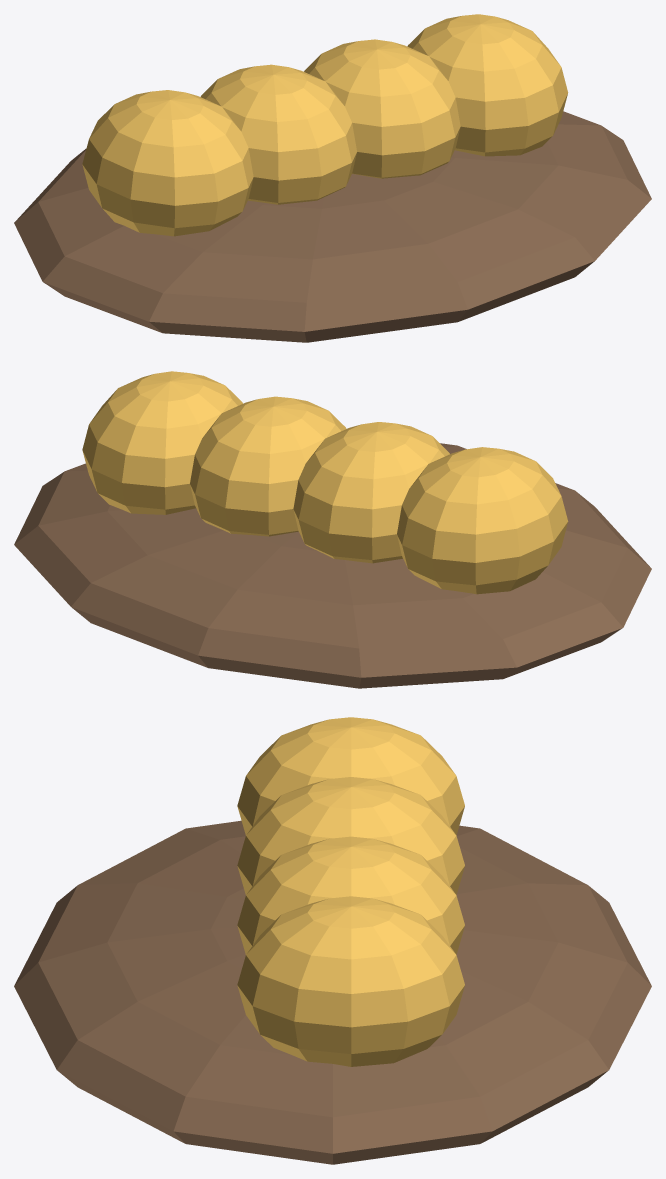
Rendered from Pile2.fbx.
The picture shows the model from 3 angles, top to bottom: view 1: azimuth 30°, elevation 25°; view 2: azimuth 150°, elevation 25°; view 3: azimuth 270°, elevation 25°; orthographic projection. The views are drawn at different scales.
Parts seen in each view (by area): view 1: Worksite soil bed, Grain heap, Grain heap.003, Grain heap.001, Grain heap.002; view 2: Worksite soil bed, Grain heap, Grain heap.003, Grain heap.001, Grain heap.002; view 3: Worksite soil bed, Grain heap.003, Grain heap.002, Grain heap, Grain heap.001.
Part boxes in pixels (bbox=[...]): Worksite soil bed: bbox=[14, 111, 651, 342]; Grain heap: bbox=[82, 90, 253, 236]; Grain heap.003: bbox=[407, 14, 568, 156]; Grain heap.001: bbox=[200, 64, 356, 204]; Grain heap.002: bbox=[304, 39, 460, 178]; Worksite soil bed: bbox=[14, 443, 651, 688]; Grain heap: bbox=[397, 447, 568, 594]; Grain heap.003: bbox=[82, 371, 242, 514]; Grain heap.001: bbox=[293, 422, 449, 563]; Grain heap.002: bbox=[190, 396, 346, 536]; Worksite soil bed: bbox=[14, 820, 651, 1164]; Grain heap.003: bbox=[237, 896, 464, 1066]; Grain heap.002: bbox=[237, 836, 464, 954]; Grain heap: bbox=[237, 717, 464, 835]; Grain heap.001: bbox=[237, 777, 464, 894].
Bounding box in the file's own units: 174 × 56 × 140.
